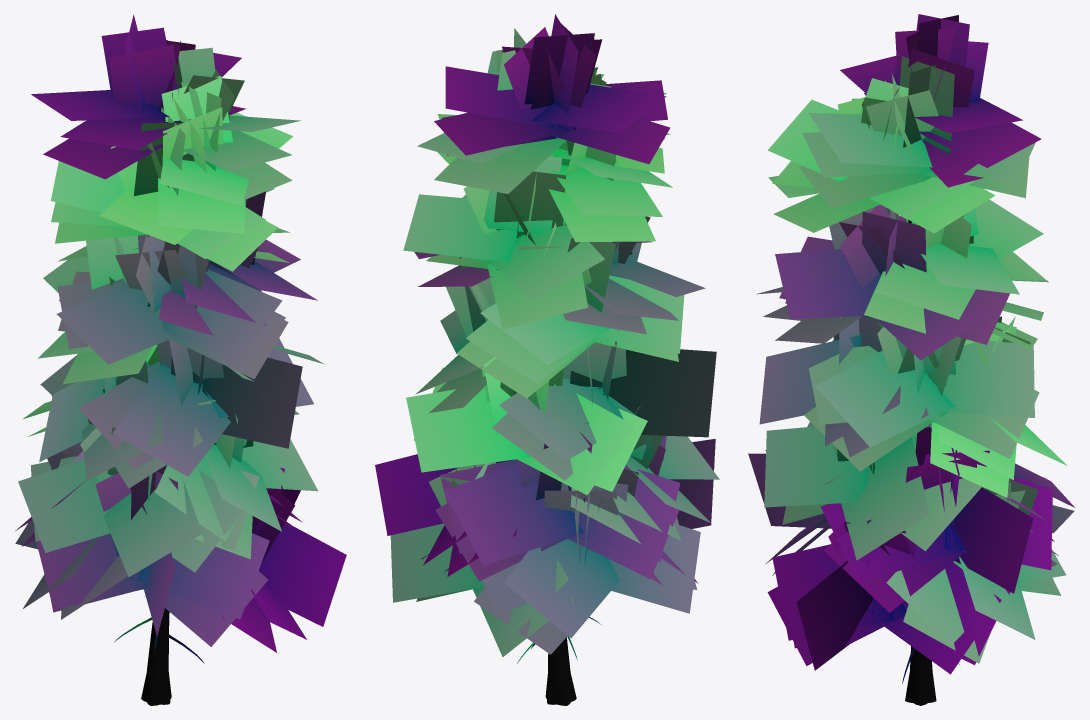
The model's file is Tree_2_3.fbx.
3 views of the same model, side by side, from view 1: azimuth 30°, elevation 25°; view 2: azimuth 150°, elevation 25°; view 3: azimuth 270°, elevation 25° (orthographic).
Visible parts, largest first — view 1: _3; view 2: _3; view 3: _3.
Part boxes in pixels (x1,y1,x2,y2): _3: [15, 14, 346, 705]; _3: [375, 14, 719, 705]; _3: [748, 14, 1074, 705].
Bounding box in the file's own units: 837 × 1945 × 852.
